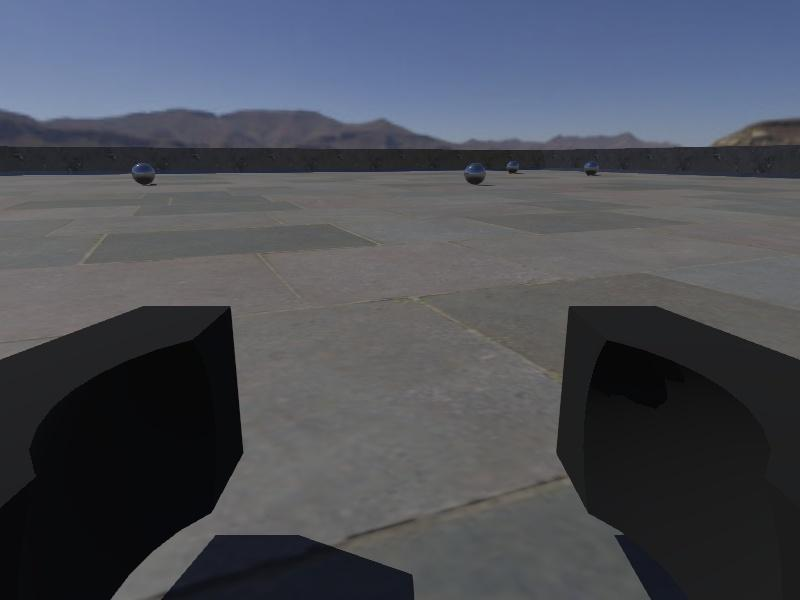steel ball: (131, 161, 157, 186), (463, 162, 488, 185), (583, 159, 601, 177), (506, 159, 519, 174)
